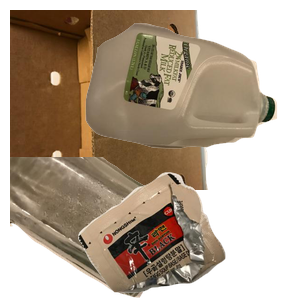cardboard: (10, 10, 211, 190)
glass: (10, 157, 190, 300)
plastic: (83, 21, 300, 162)
trash: (76, 170, 300, 300)
